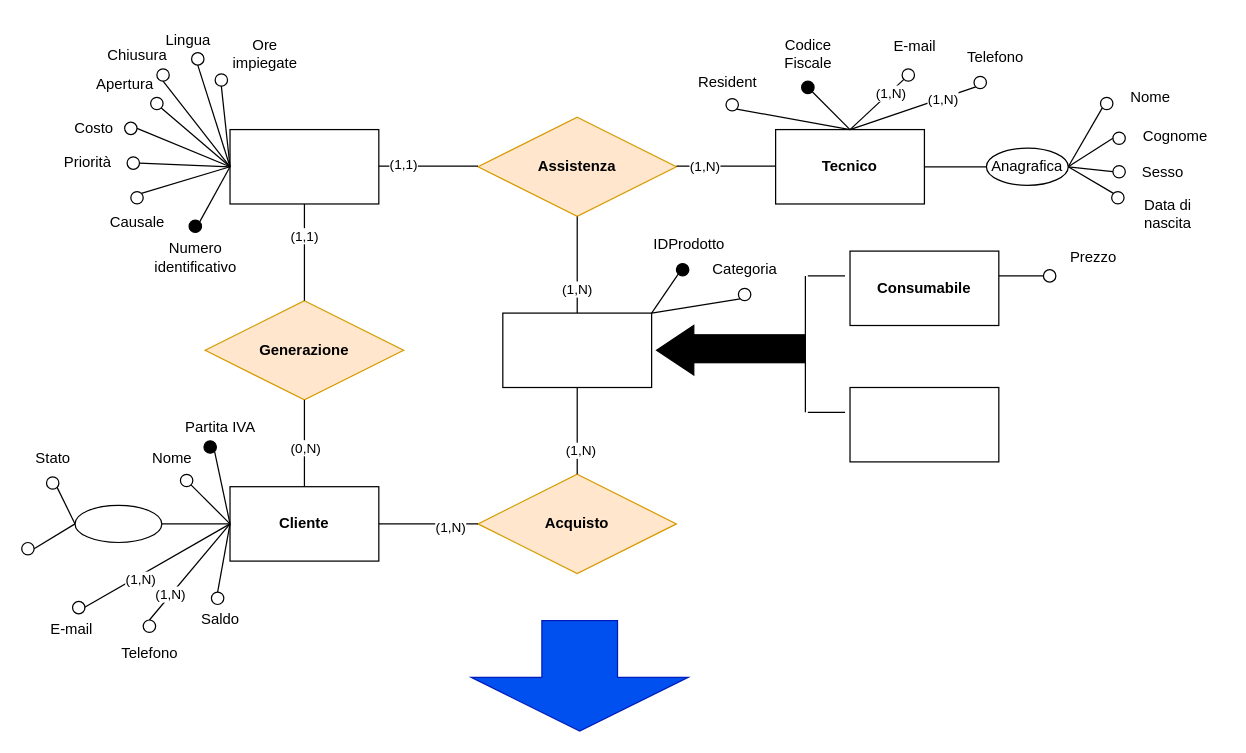
This 1246x753 diagram has some shape labels left out. Here are the shapes that lost their labels. From the top down, the box of each, then its label:
(229, 128, 379, 204): Ticket
(502, 312, 652, 388): Prodotto
(849, 386, 999, 462): Macchinario
(74, 504, 162, 542): Locazione
